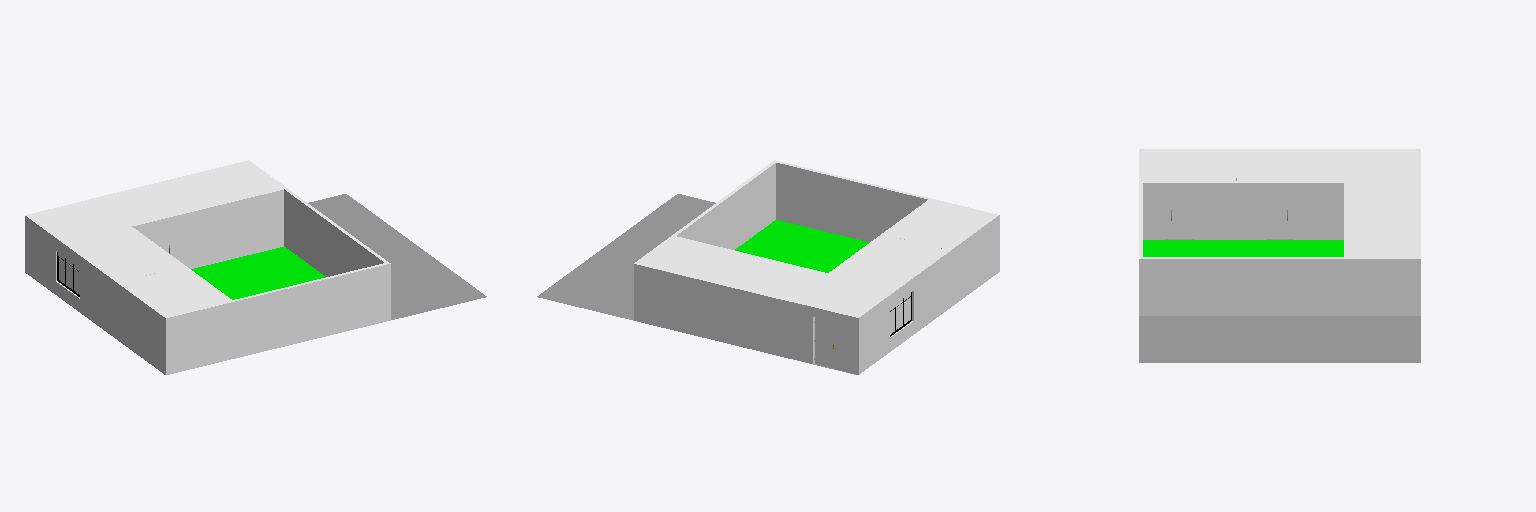
File: house.obj
3 renders of one model, left to right at view 1: azimuth 30°, elevation 25°; view 2: azimuth 150°, elevation 25°; view 3: azimuth 270°, elevation 25°, orthographic.
Parts seen in each view (by area): view 1: wall_4_23, ground_1, wall_6_34, room_19_92, room_17_89, wall_1_5, wall_5_28, room_18_90, room_16_87, wall_13_76; view 2: wall_8_47, wall_4_22, ground_1, room_19_92, room_17_89, wall_1_5, wall_5_28, room_18_90, room_16_87, wall_13_76, wall_12_71, wall_11_64 (+1 smaller); view 3: ground_1, wall_5_29, room_19_92, room_17_89, wall_3_17, wall_7_41, wall_14_82, room_18_90, room_16_87, sweethome3d_opening_on_hinge_1_Leaf_Side_B_front_6_1_125, sweethome3d_opening_on_hinge_1_Leaf_Side_B_front_6_1_201.
Boxes of the visible parts, x1=… form: wall_4_23: x1=165, y1=264, x2=390, y2=374; ground_1: x1=41, y1=194, x2=486, y2=325; wall_6_34: x1=132, y1=190, x2=283, y2=268; room_19_92: x1=31, y1=201, x2=178, y2=279; room_17_89: x1=96, y1=163, x2=281, y2=224; wall_1_5: x1=26, y1=216, x2=115, y2=338; wall_5_28: x1=284, y1=189, x2=383, y2=276; room_18_90: x1=191, y1=247, x2=325, y2=299; room_16_87: x1=121, y1=267, x2=228, y2=315; wall_13_76: x1=116, y1=282, x2=163, y2=373; wall_8_47: x1=634, y1=264, x2=792, y2=358; wall_4_22: x1=776, y1=163, x2=998, y2=272; ground_1: x1=537, y1=194, x2=926, y2=374; room_19_92: x1=795, y1=236, x2=944, y2=315; room_17_89: x1=640, y1=238, x2=824, y2=299; wall_1_5: x1=860, y1=252, x2=949, y2=373; wall_5_28: x1=677, y1=163, x2=775, y2=249; room_18_90: x1=735, y1=220, x2=869, y2=272; room_16_87: x1=886, y1=201, x2=993, y2=249; wall_13_76: x1=950, y1=216, x2=997, y2=307; wall_12_71: x1=813, y1=307, x2=859, y2=374; wall_11_64: x1=793, y1=302, x2=813, y2=363; ground_1: x1=1139, y1=239, x2=1420, y2=362; wall_5_29: x1=1139, y1=259, x2=1347, y2=315; room_19_92: x1=1240, y1=151, x2=1416, y2=180; room_17_89: x1=1348, y1=183, x2=1416, y2=256; wall_3_17: x1=1239, y1=183, x2=1343, y2=239; wall_7_41: x1=1348, y1=259, x2=1420, y2=315; wall_14_82: x1=1143, y1=183, x2=1238, y2=239; room_18_90: x1=1143, y1=240, x2=1343, y2=256; room_16_87: x1=1143, y1=151, x2=1235, y2=180; sweethome3d_opening_on_hinge_1_Leaf_Side_B_front_6_1_125: x1=1268, y1=192, x2=1290, y2=238; sweethome3d_opening_on_hinge_1_Leaf_Side_B_front_6_1_201: x1=1168, y1=192, x2=1190, y2=238.
Bounding box in the file's own units: 1475 × 250 × 1123.